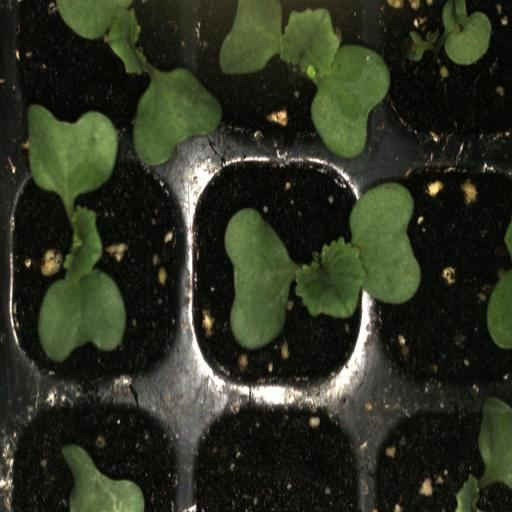Folha: (455, 397, 512, 512), (62, 444, 145, 512), (409, 0, 492, 65), (487, 270, 512, 349)
Germinacao: (190, 152, 372, 398), (8, 150, 190, 383), (11, 0, 195, 155), (189, 0, 374, 151), (381, 0, 512, 155)
